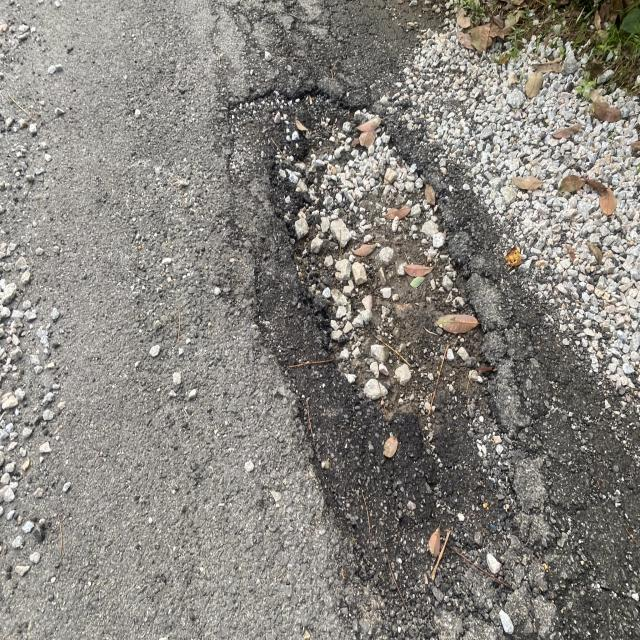Pothole: (205, 61, 552, 542)
